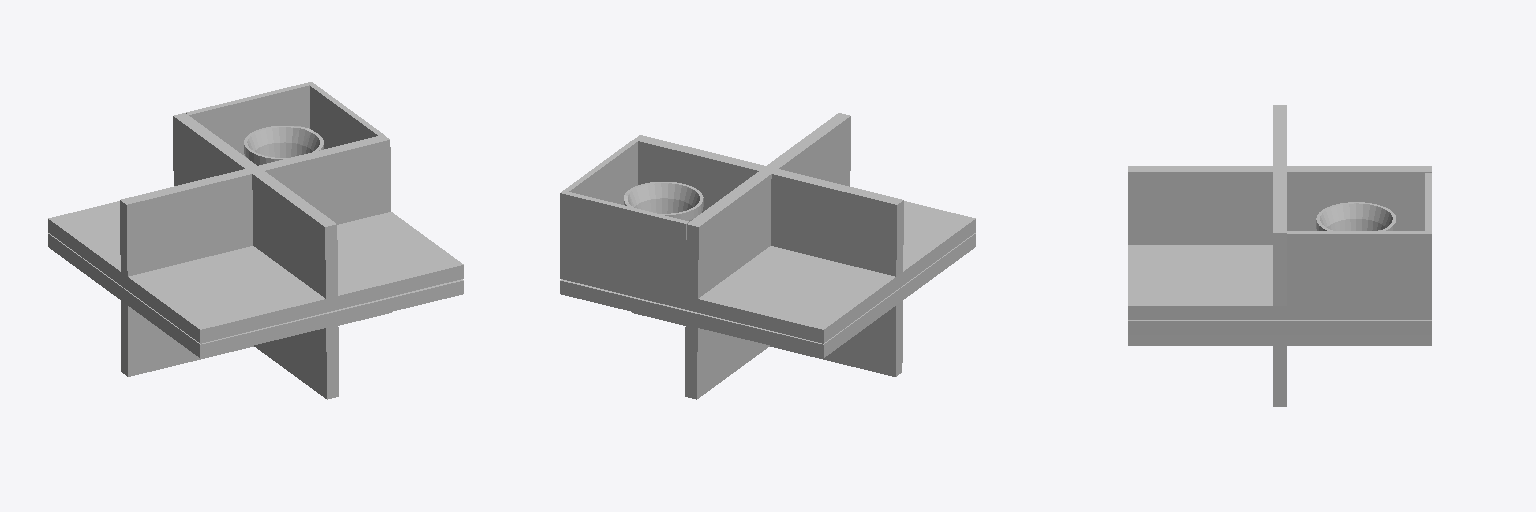
File: planta.obj
3 renders of one model, left to right at view 1: azimuth 30°, elevation 25°; view 2: azimuth 150°, elevation 25°; view 3: azimuth 270°, elevation 25°, orthographic.
Parts seen in each view (by area): view 1: Cube.007; view 2: Cube.007; view 3: Cube.007.
Part boxes in pixels (bbox=[...]): Cube.007: bbox=[48, 82, 463, 399]; Cube.007: bbox=[560, 113, 975, 399]; Cube.007: bbox=[1128, 105, 1431, 406].
Size of the model in its own units: 2.01 by 1.26 by 2.